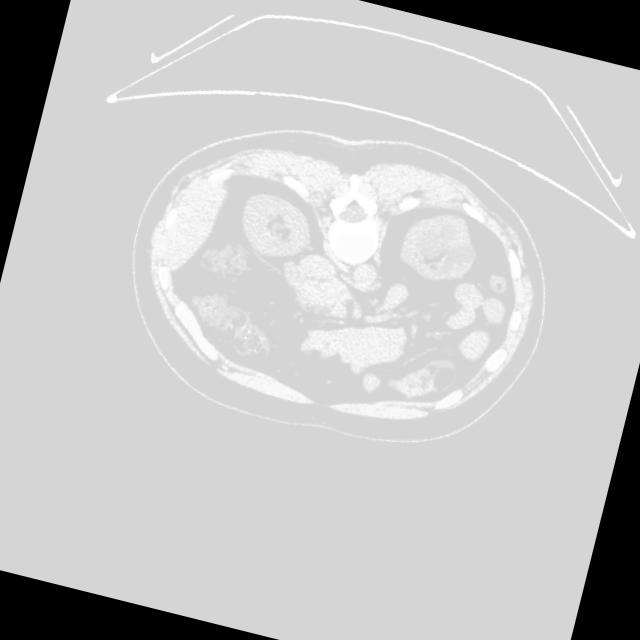cysts: (98, 85, 576, 480)
